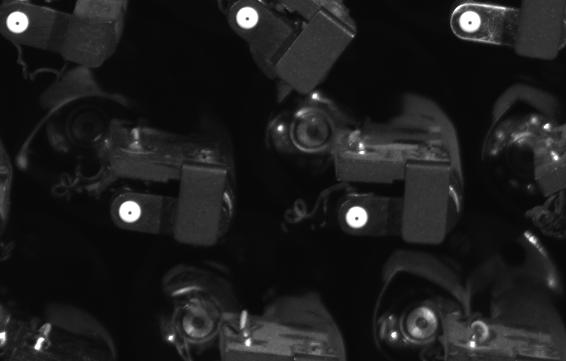fiber: (338, 199, 376, 235), (226, 3, 264, 34), (454, 7, 489, 39), (113, 195, 148, 227), (1, 8, 36, 37)
